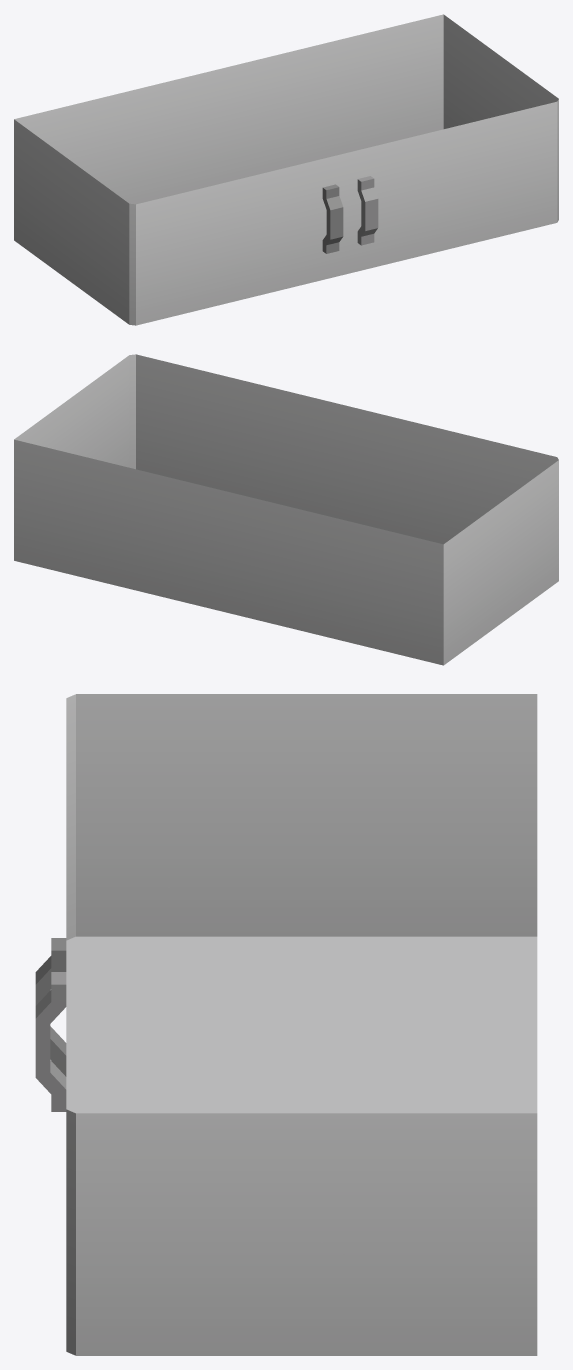
Rendered from Counter_01_v05_D_C02.fbx.
The picture shows the model from 3 angles, top to bottom: view 1: azimuth 30°, elevation 25°; view 2: azimuth 150°, elevation 25°; view 3: azimuth 270°, elevation 25°; orthographic projection. The views are drawn at different scales.
Parts seen in each view (by area): view 1: Counter_01_v05_D_C02; view 2: Counter_01_v05_D_C02; view 3: Counter_01_v05_D_C02.
Part boxes in pixels (box(x1,y1,x2,y2)): Counter_01_v05_D_C02: box(14, 14, 558, 325); Counter_01_v05_D_C02: box(14, 354, 558, 665); Counter_01_v05_D_C02: box(35, 694, 537, 1355).
Bounding box in the file's own units: 200 × 53.91 × 101.
